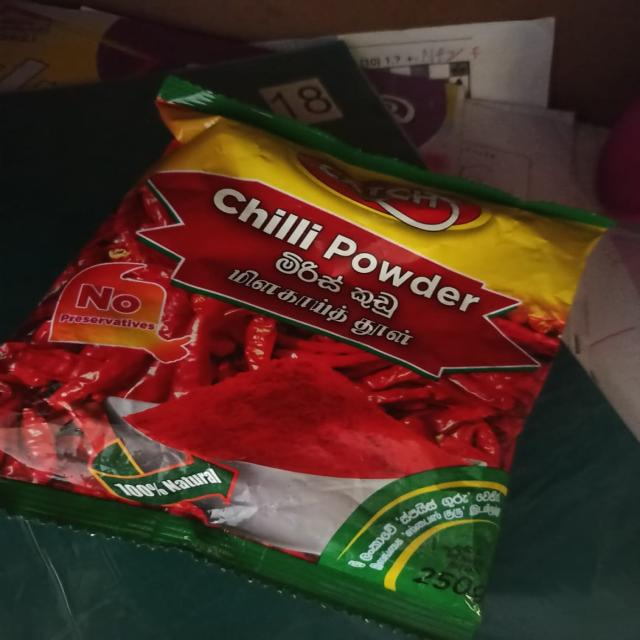Chilli Powder: (4, 71, 636, 640)
